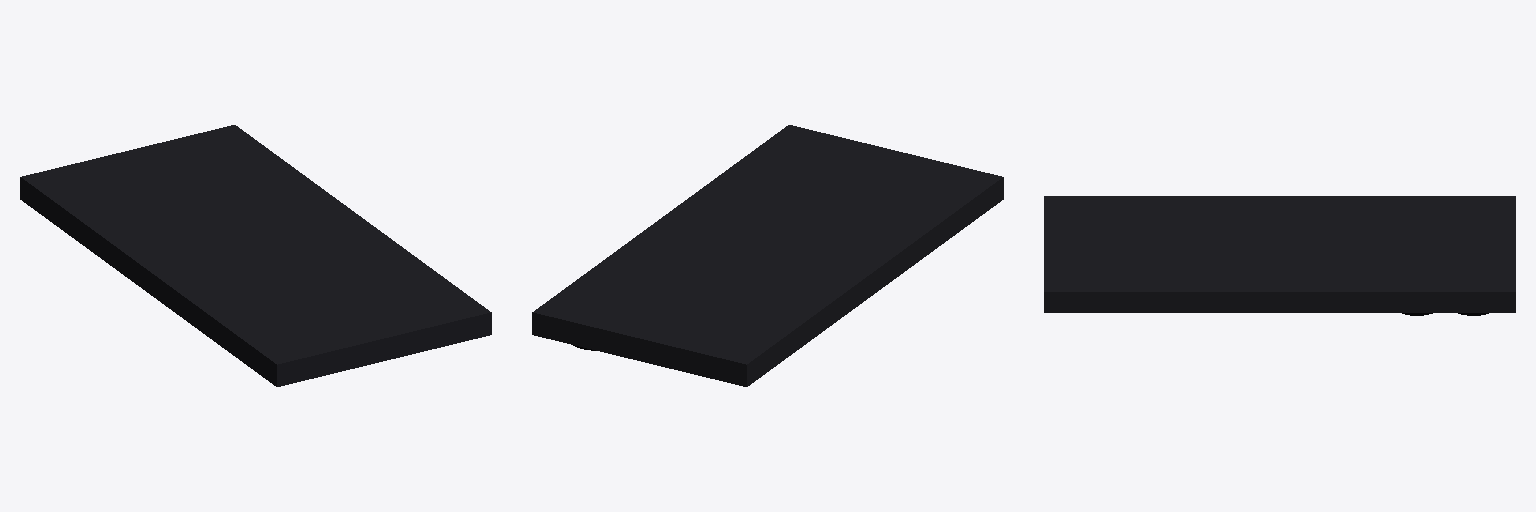
robot.urdf — iphone_14_pro_max:
<?xml version="1.0"?>
<!-- iPhone 14 Pro Max: generated by imuninn from Apple's dimensional drawings (iphone-frames dataset). Frames: device = display centre on the front glass (x right, y top, z out of the screen); cam_*_optical = OpenCV axes. Geometry and mass are approximate. -->
<robot name="iphone_14_pro_max">
  <material name="iphone_body">
    <color rgba="0.15 0.15 0.17 1" />
  </material>
  <material name="iphone_lens">
    <color rgba="0.05 0.05 0.06 1" />
  </material>
  <link name="device">
    <visual name="body">
      <origin xyz="-5e-06 5e-06 -0.003925" rpy="0 0 0" />
      <geometry>
        <box size="0.07758 0.16071 0.00785" />
      </geometry>
      <material name="iphone_body" />
    </visual>
    <collision name="body">
      <origin xyz="-5e-06 5e-06 -0.003925" rpy="0 0 0" />
      <geometry>
        <box size="0.07758 0.16071 0.00785" />
      </geometry>
    </collision>
    <visual name="lens_telephoto">
      <origin xyz="0.024505 0.06608 -0.00994" rpy="0 0 0" />
      <geometry>
        <cylinder radius="0.007805" length="0.00418" />
      </geometry>
      <material name="iphone_lens" />
    </visual>
    <visual name="lens_main">
      <origin xyz="0.024505 0.04684 -0.00994" rpy="0 0 0" />
      <geometry>
        <cylinder radius="0.007805" length="0.00418" />
      </geometry>
      <material name="iphone_lens" />
    </visual>
    <visual name="lens_ultra_wide">
      <origin xyz="0.006665 0.05646 -0.00994" rpy="0 0 0" />
      <geometry>
        <cylinder radius="0.007805" length="0.00418" />
      </geometry>
      <material name="iphone_lens" />
    </visual>
    <inertial>
      <origin xyz="-5e-06 5e-06 -0.003925" rpy="0 0 0" />
      <mass value="0.225" />
      <inertia ixx="0.000485425" ixy="0" ixz="0" iyy="0.000114005" iyz="0" izz="0.000597119" />
    </inertial>
  </link>
  <link name="magsafe" />
  <joint name="device_to_magsafe" type="fixed">
    <parent link="device" />
    <child link="magsafe" />
    <origin xyz="-5e-06 0 -0.00785" rpy="3.14159265 0 3.14159265" />
  </joint>
  <link name="cam_telephoto_optical" />
  <joint name="device_to_cam_telephoto_optical" type="fixed">
    <parent link="device" />
    <child link="cam_telephoto_optical" />
    <origin xyz="0.024505 0.06608 -0.01203" rpy="3.14159265 0 -1.57079633" />
  </joint>
  <link name="cam_main_optical" />
  <joint name="device_to_cam_main_optical" type="fixed">
    <parent link="device" />
    <child link="cam_main_optical" />
    <origin xyz="0.024505 0.04684 -0.01203" rpy="3.14159265 0 -1.57079633" />
  </joint>
  <link name="cam_ultra_wide_optical" />
  <joint name="device_to_cam_ultra_wide_optical" type="fixed">
    <parent link="device" />
    <child link="cam_ultra_wide_optical" />
    <origin xyz="0.006665 0.05646 -0.01203" rpy="3.14159265 0 -1.57079633" />
  </joint>
  <link name="cam_front_optical" />
  <joint name="device_to_cam_front_optical" type="fixed">
    <parent link="device" />
    <child link="cam_front_optical" />
    <origin xyz="0.007325 0.07226 0" rpy="0 0 1.57079633" />
  </joint>
  <link name="imu" />
  <joint name="device_to_imu" type="fixed">
    <parent link="device" />
    <child link="imu" />
    <origin xyz="0 0 0" rpy="0 0 0" />
  </joint>
</robot>

--- Facts derived from the render (not from the file) ---
3 views of the same robot in one strip: view 1: azimuth 30°, elevation 25°; view 2: azimuth 150°, elevation 25°; view 3: azimuth 270°, elevation 25° (orthographic).
Robot: iphone_14_pro_max — 7 links, 6 joints (6 fixed); root link device; default pose: every joint at zero.
Links seen in each view (by area): view 1: device; view 2: device; view 3: device.
Link boxes in pixels (<box>): device: <box>20,125,491,386</box>; device: <box>532,125,1003,386</box>; device: <box>1044,196,1515,315</box>.
Size in the robot's own frame: 0.0776 by 0.1607 by 0.012 metres.
Geometry: primitives only (box / cylinder / sphere), no mesh files.
